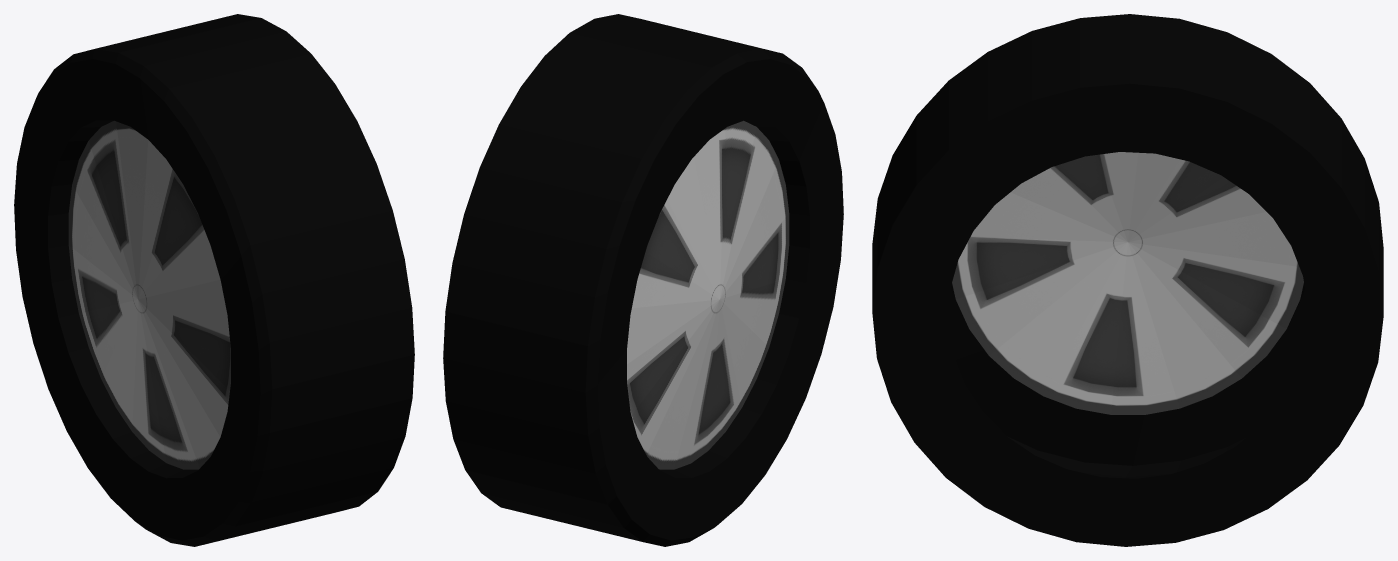
File: Wheel.R.fbx
3 views of the same model, side by side, from view 1: azimuth 30°, elevation 25°; view 2: azimuth 150°, elevation 25°; view 3: azimuth 270°, elevation 25° (orthographic).
Parts seen in each view (by area): view 1: Wheel.Right.Mesh; view 2: Wheel.Right.Mesh; view 3: Wheel.Right.Mesh.
Part boxes in pixels (<box>): Wheel.Right.Mesh: <box>14,14,414,546</box>; Wheel.Right.Mesh: <box>443,14,843,546</box>; Wheel.Right.Mesh: <box>872,14,1383,546</box>.
Size of the model in its own units: 0.1021 by 0.3004 by 0.3004.
